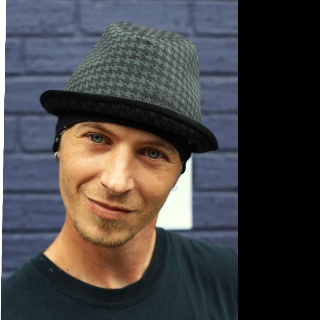without_mask: (59, 121, 184, 249)
